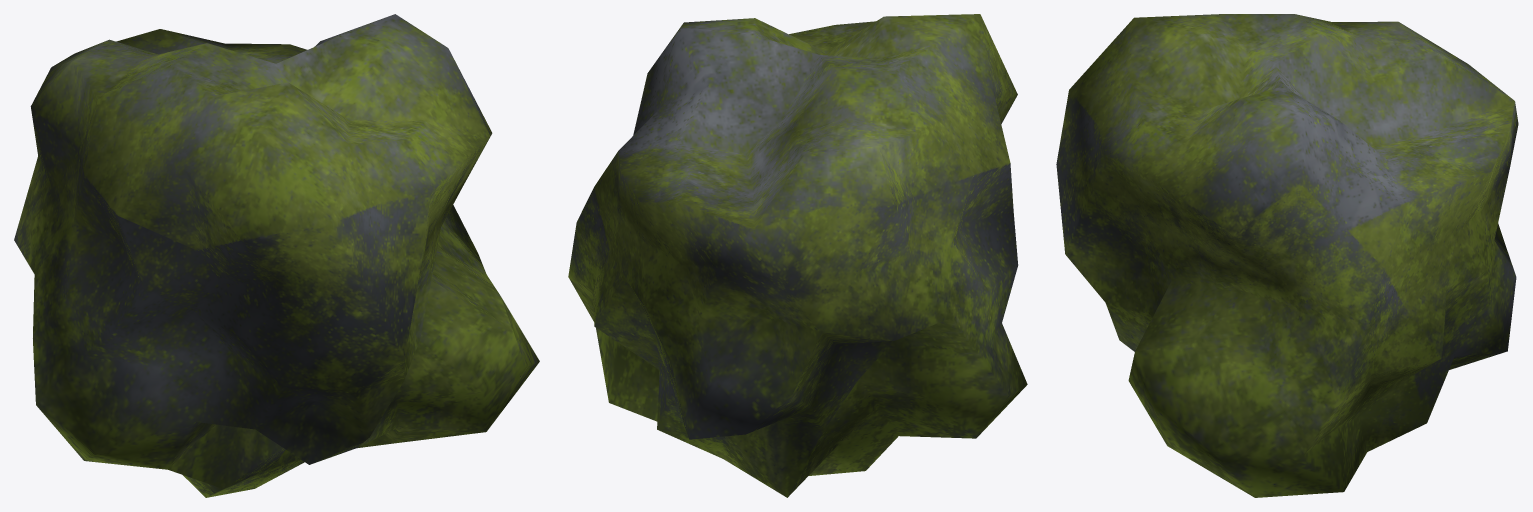
The model's file is Batu3.fbx.
3 views of the same model, side by side, from view 1: azimuth 30°, elevation 25°; view 2: azimuth 150°, elevation 25°; view 3: azimuth 270°, elevation 25° (orthographic). The views are drawn at different scales.
Parts seen in each view (by area): view 1: Batu3; view 2: Batu3; view 3: Batu3.
Boxes of the visible parts, x1,y1,x2,y2 form: Batu3: [14, 14, 539, 497]; Batu3: [568, 14, 1027, 497]; Batu3: [1056, 14, 1518, 497].
Size of the model in its own units: 260 by 248 by 257.
Materials: 1 (1 with a texture image).
